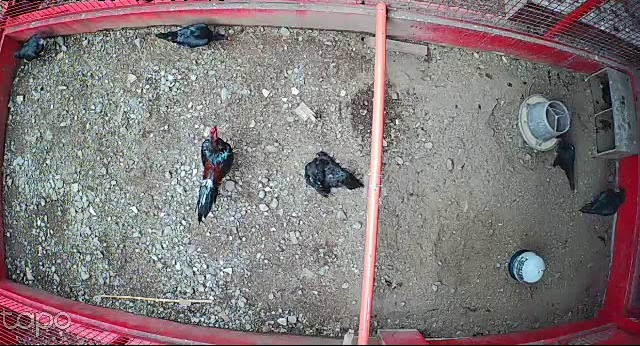Chicken: (299, 148, 366, 199), (150, 23, 234, 49), (545, 134, 580, 195), (577, 183, 629, 217), (8, 34, 56, 62)
Drinker: (507, 249, 546, 284)
Feeder: (517, 91, 571, 152)
Rooster: (193, 123, 244, 224)
